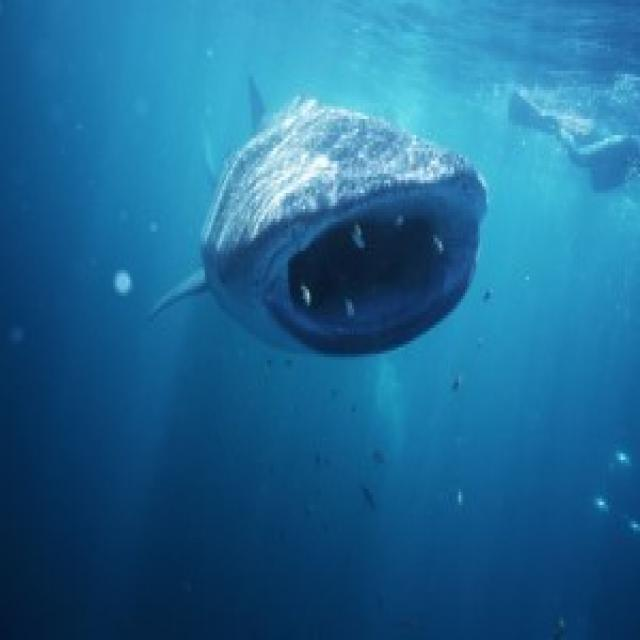Shark: (152, 69, 502, 374)
